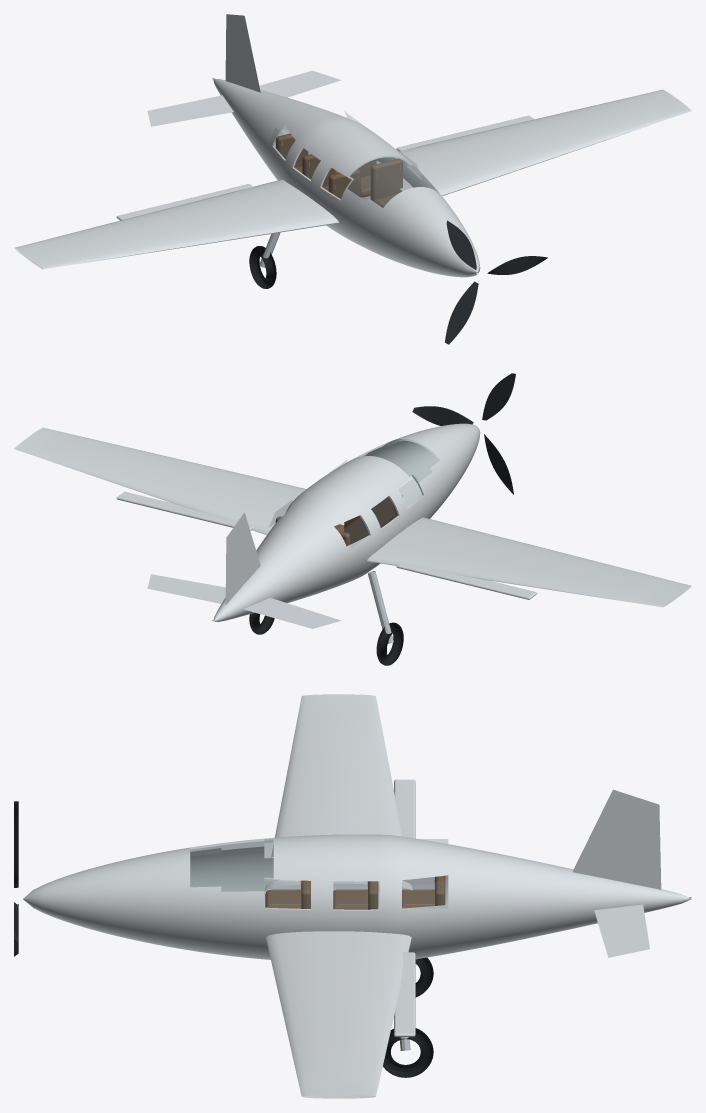
File: CoastalSixAircraft.fbx
3 renders of one model, top to bottom at view 1: azimuth 30°, elevation 25°; view 2: azimuth 150°, elevation 25°; view 3: azimuth 270°, elevation 25°, orthographic. The views are drawn at different scales.
Parts seen in each view (by area): view 1: Fuselage, CamberedWing, CamberedWing.001, TailFin, HorizontalStabilizer, CabinPassengerBack.003, HorizontalStabilizer.001, TwistedPropellerBlade.002, LandingTyre, FlapSurface, FlapSurface.001, TwistedPropellerBlade.001 (+2 smaller); view 2: Fuselage, CamberedWing, CamberedWing.001, TailFin, HorizontalStabilizer, HorizontalStabilizer.001, FlapSurface, FlapSurface.001, LandingTyre, TwistedPropellerBlade.001, TwistedPropellerBlade, TwistedPropellerBlade.002 (+3 smaller); view 3: Fuselage, CamberedWing.001, CamberedWing, TailFin, HorizontalStabilizer.001, FlapSurface.001, CabinWindow.003, CabinWindow.004, CabinWindow.005, LandingTyre.001, FlapSurface, CabinPassengerCushion.001 (+2 smaller).
Part boxes in pixels (x1,y1,x2,y2): Fuselage: (212, 78, 480, 277); CamberedWing: (14, 179, 338, 269); CamberedWing.001: (376, 89, 691, 196); TailFin: (225, 14, 260, 92); HorizontalStabilizer: (147, 95, 233, 126); CabinPassengerBack.003: (370, 158, 402, 200); HorizontalStabilizer.001: (259, 70, 341, 97); TwistedPropellerBlade.002: (444, 281, 478, 344); LandingTyre: (249, 246, 276, 288); FlapSurface: (116, 184, 253, 220); FlapSurface.001: (396, 115, 534, 151); TwistedPropellerBlade.001: (446, 220, 476, 269); Fuselage: (212, 423, 480, 621); CamberedWing: (367, 517, 691, 607); CamberedWing.001: (14, 427, 306, 535); TailFin: (225, 512, 260, 604); HorizontalStabilizer: (243, 597, 341, 628); HorizontalStabilizer.001: (147, 574, 225, 603); FlapSurface: (396, 562, 537, 599); FlapSurface.001: (116, 491, 253, 530); LandingTyre: (376, 622, 403, 665); TwistedPropellerBlade.001: (482, 373, 515, 420); TwistedPropellerBlade: (412, 406, 473, 425); TwistedPropellerBlade.002: (484, 434, 513, 494); Fuselage: (23, 834, 691, 959); CamberedWing.001: (266, 931, 411, 1098); CamberedWing: (264, 694, 412, 898); TailFin: (572, 789, 661, 889); HorizontalStabilizer.001: (594, 904, 649, 957); FlapSurface.001: (394, 952, 415, 1036); CabinWindow.003: (264, 881, 310, 908); CabinWindow.004: (333, 881, 379, 908); CabinWindow.005: (402, 881, 447, 908); LandingTyre.001: (383, 1028, 433, 1077); FlapSurface: (394, 779, 415, 838); CabinPassengerCushion.001: (333, 889, 367, 909).
Size of the model in its own units: 1020 by 295 by 730.
